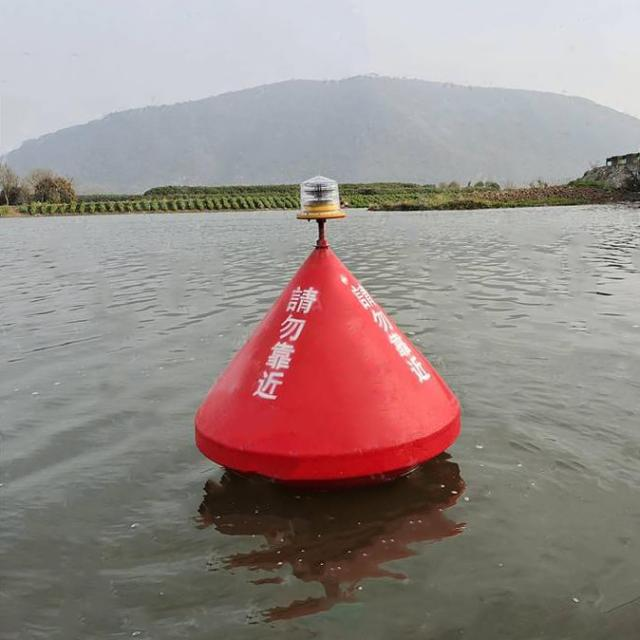buoy: (187, 172, 456, 482)
